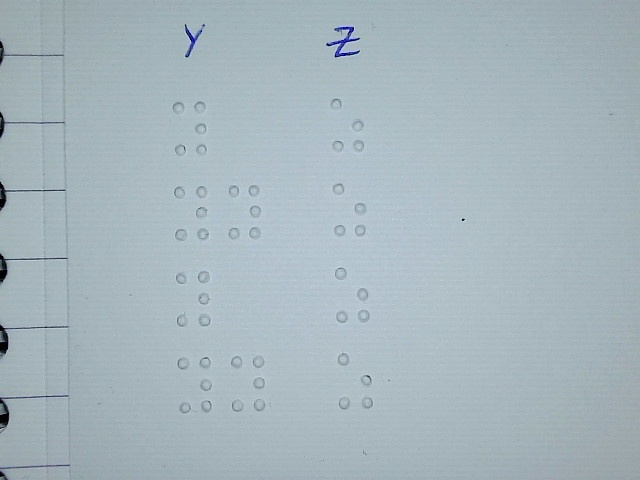Y: (172, 99, 208, 157), (226, 182, 262, 240), (173, 184, 209, 242), (230, 353, 266, 411), (176, 354, 212, 412), (175, 269, 211, 327)
Z: (336, 350, 375, 410), (329, 96, 365, 154), (331, 180, 367, 238), (334, 265, 370, 323)
